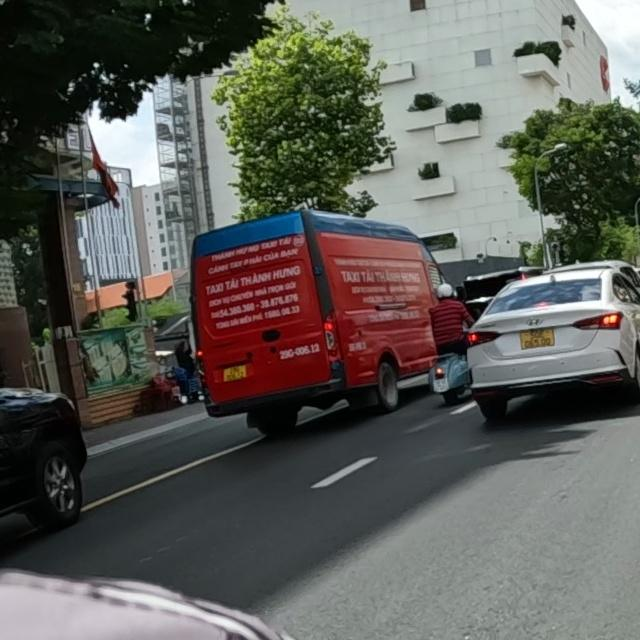license-plate: (520, 329, 555, 350)
